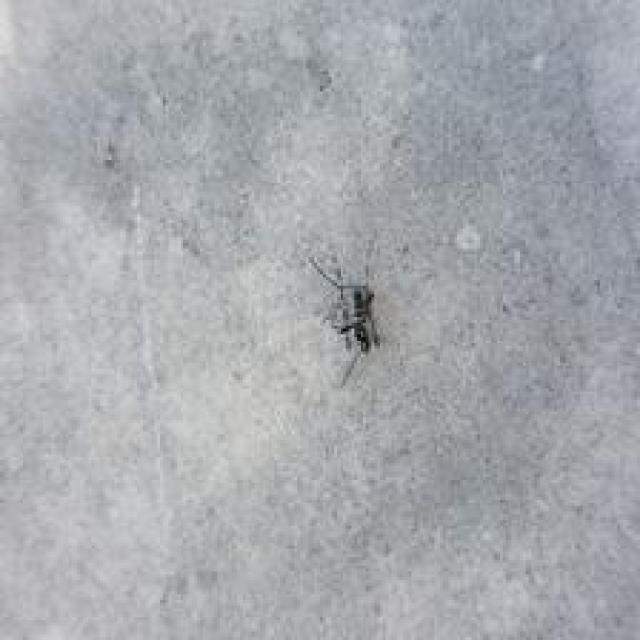Aedes albopictus: (307, 252, 384, 388)
